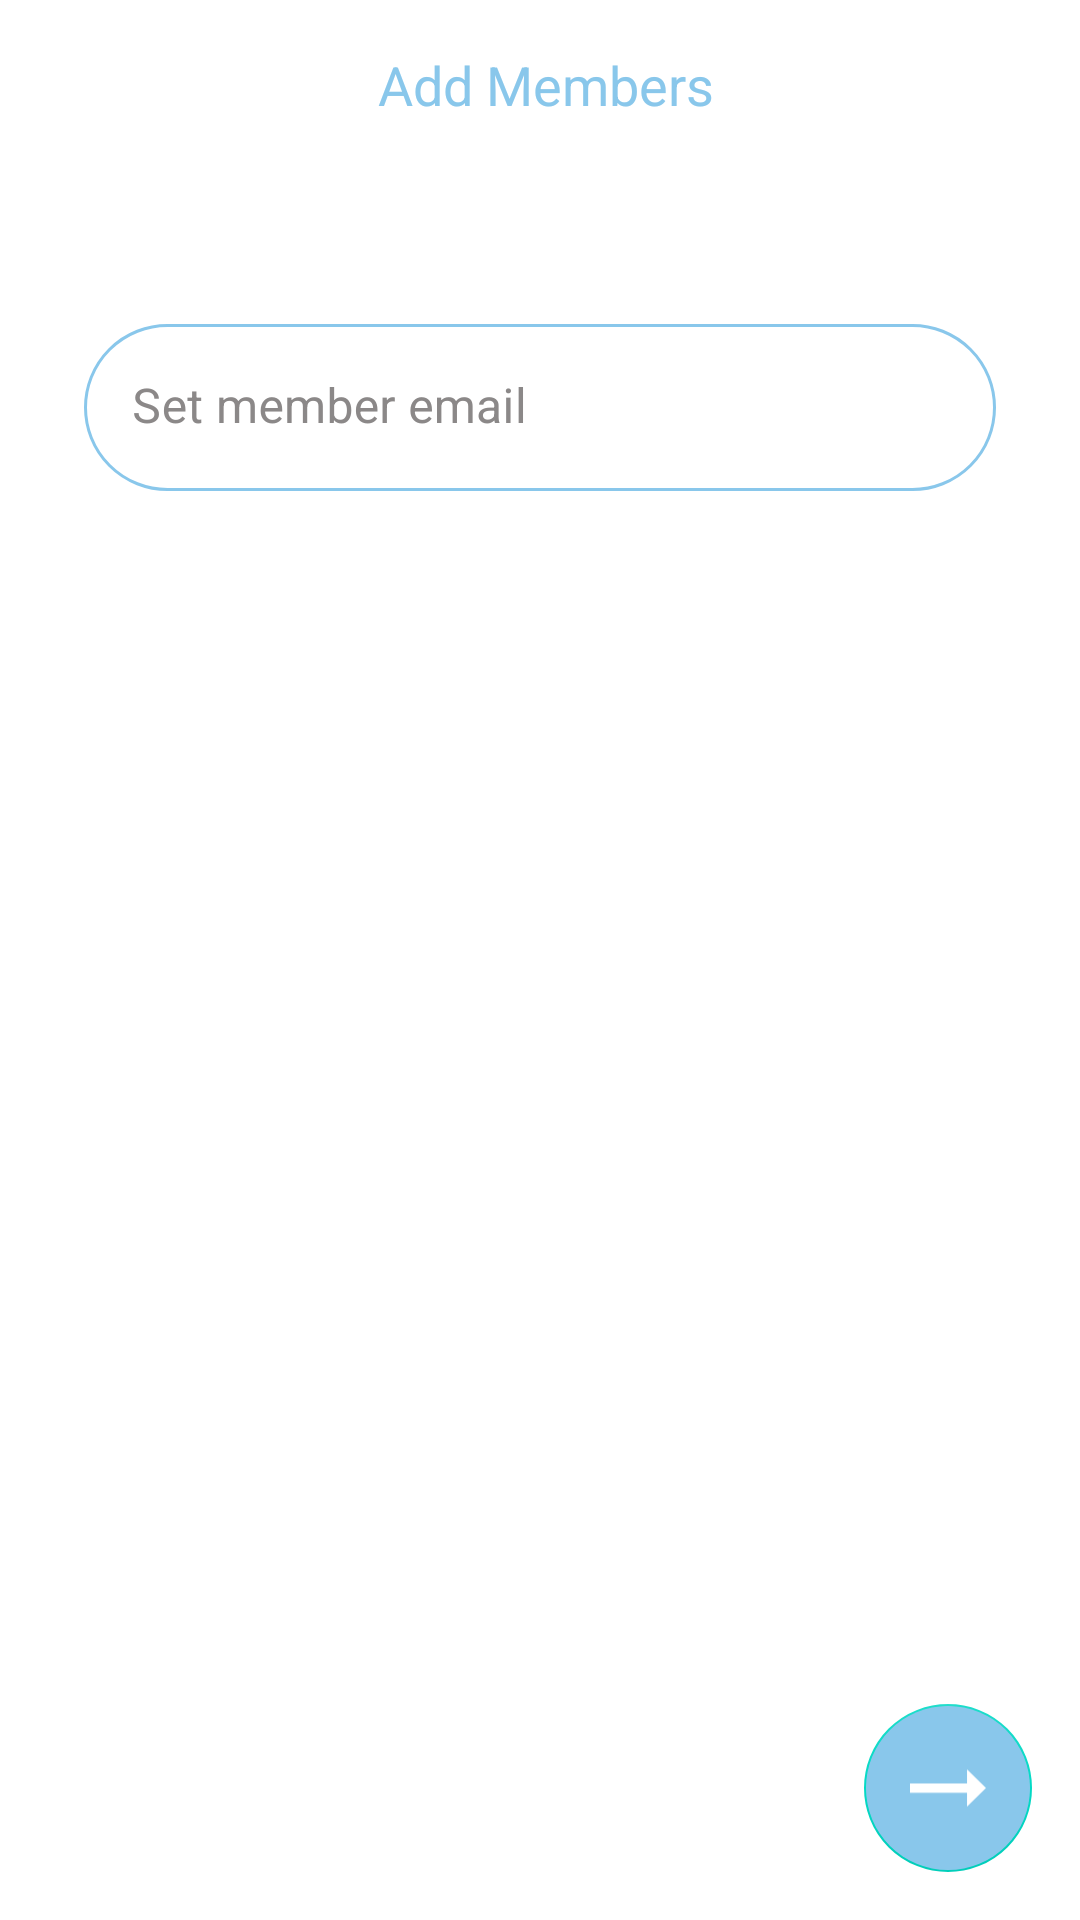

Screen size 1080w x 1920h. Icon name, then its center in pixels as point (x, y):
Next Button: point (948, 1788)
